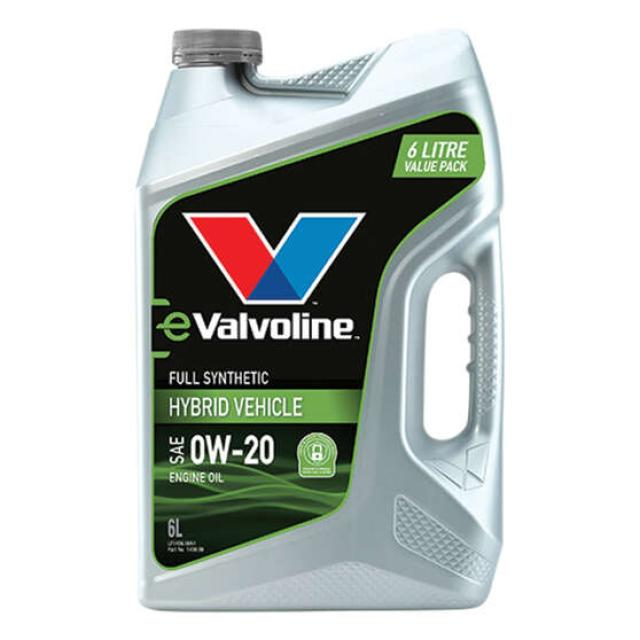motor_oil: (122, 21, 512, 614)
